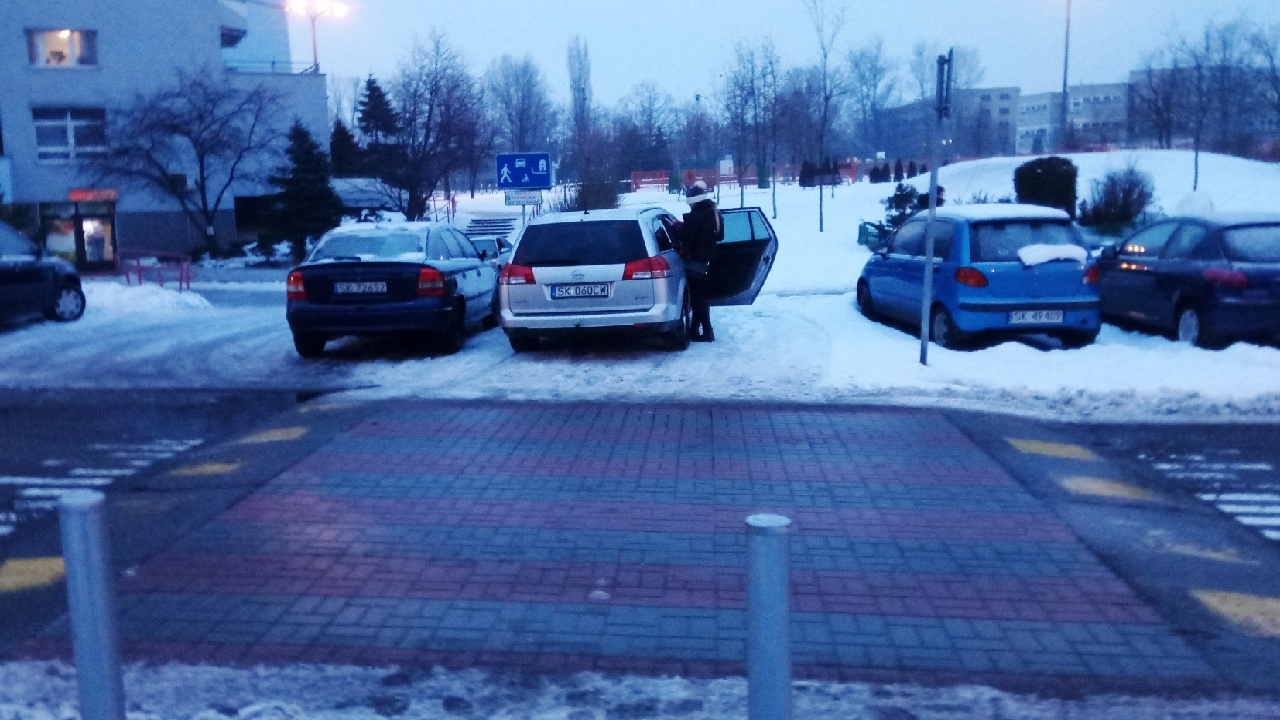D40: (492, 149, 555, 191)
